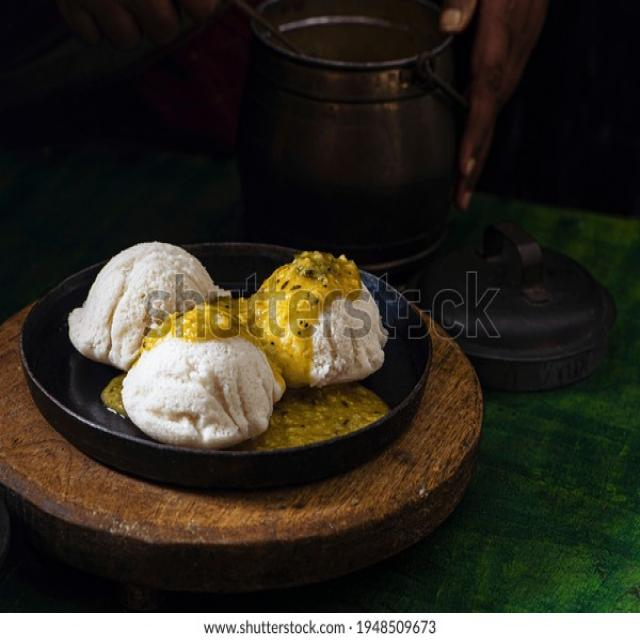IDLI: (119, 303, 288, 444), (62, 240, 237, 358), (228, 252, 388, 381)
